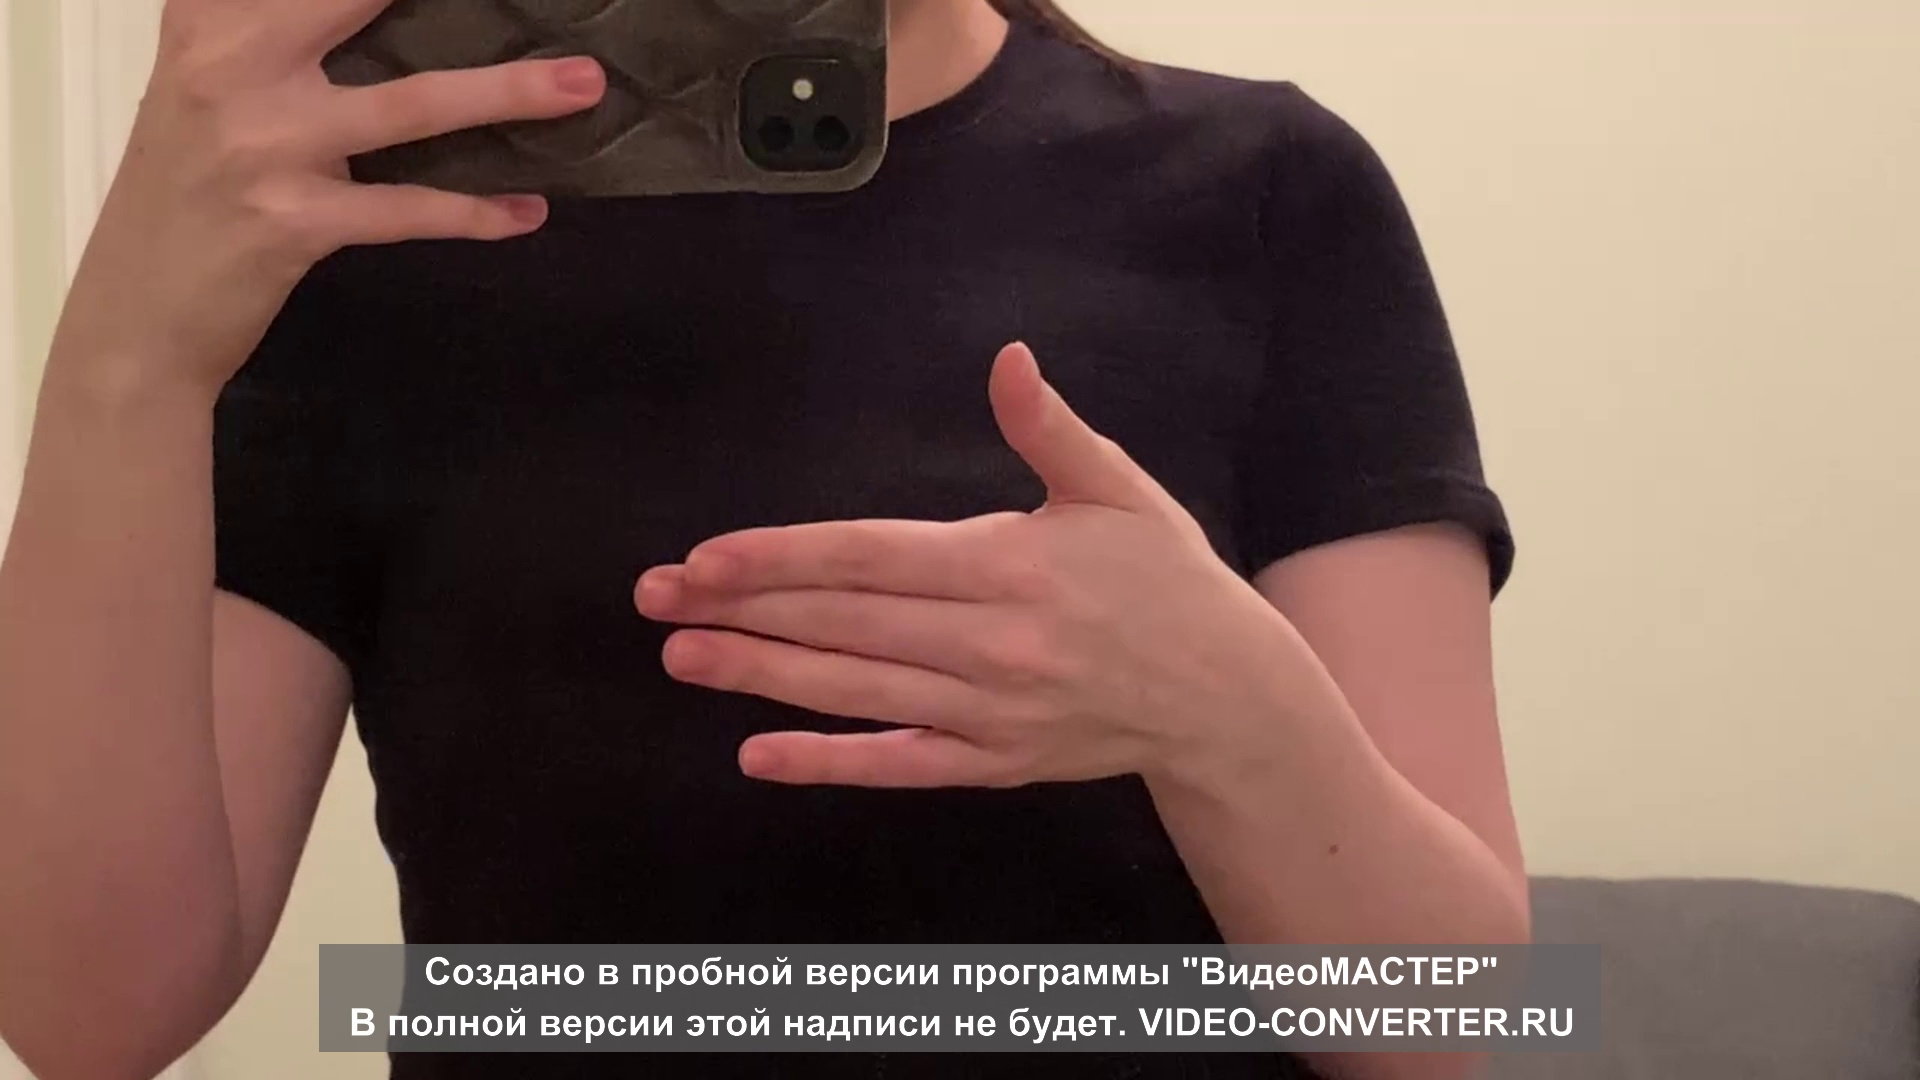Кисть: (638, 342, 1229, 786)
